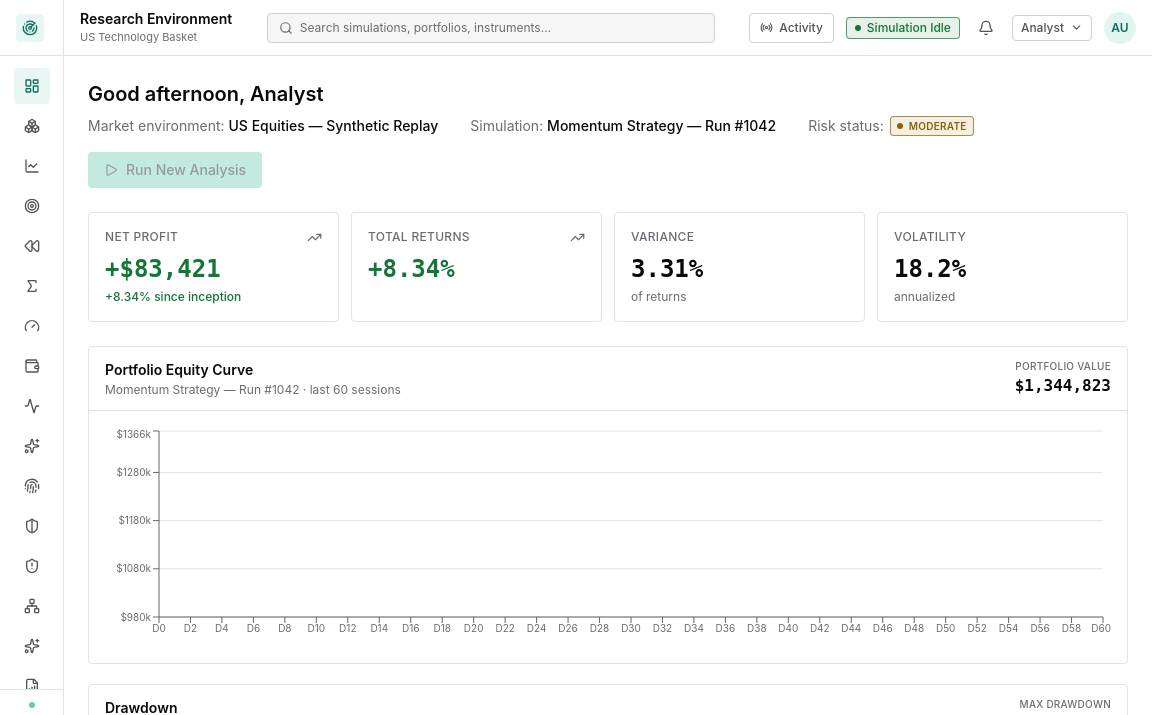
Test: real sign-in and role-specific display › offers only equal or lower roles in the top bar preview
Click the button "Analyst".
click(1052, 28)  # box [1012, 14, 1092, 40]
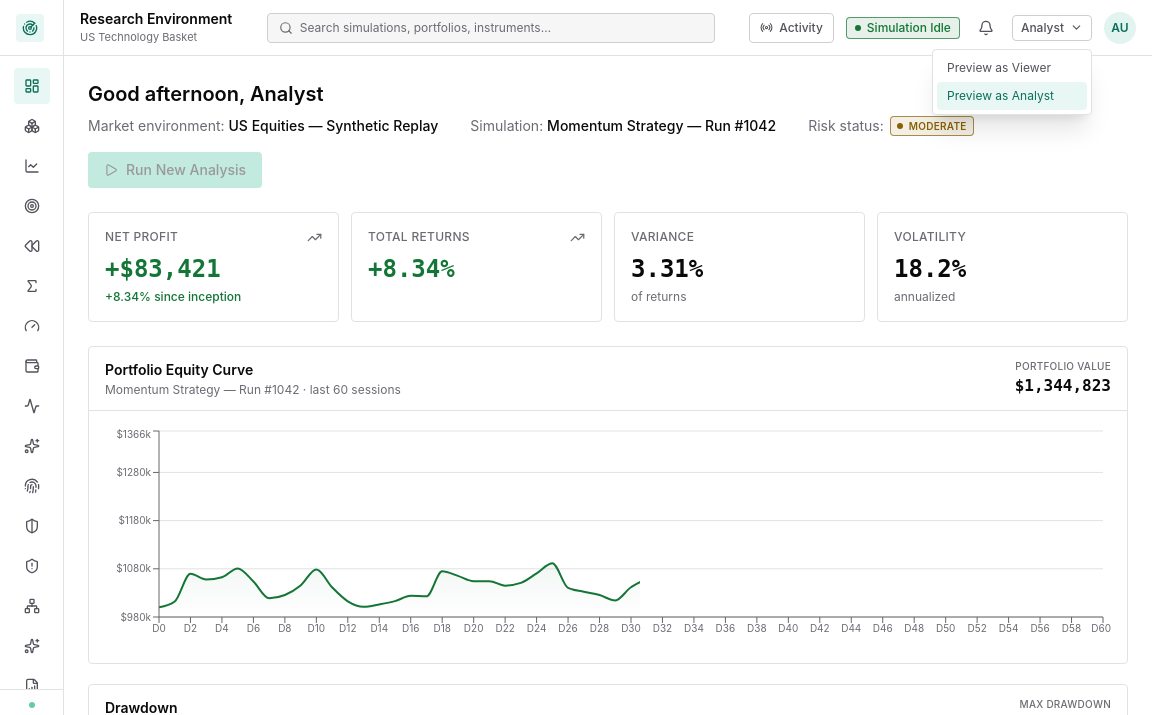
Result: the button "Preview as Viewer" is shown at [937, 54, 1087, 82]
Result: the button "Preview as Analyst" is shown at [937, 82, 1087, 110]
